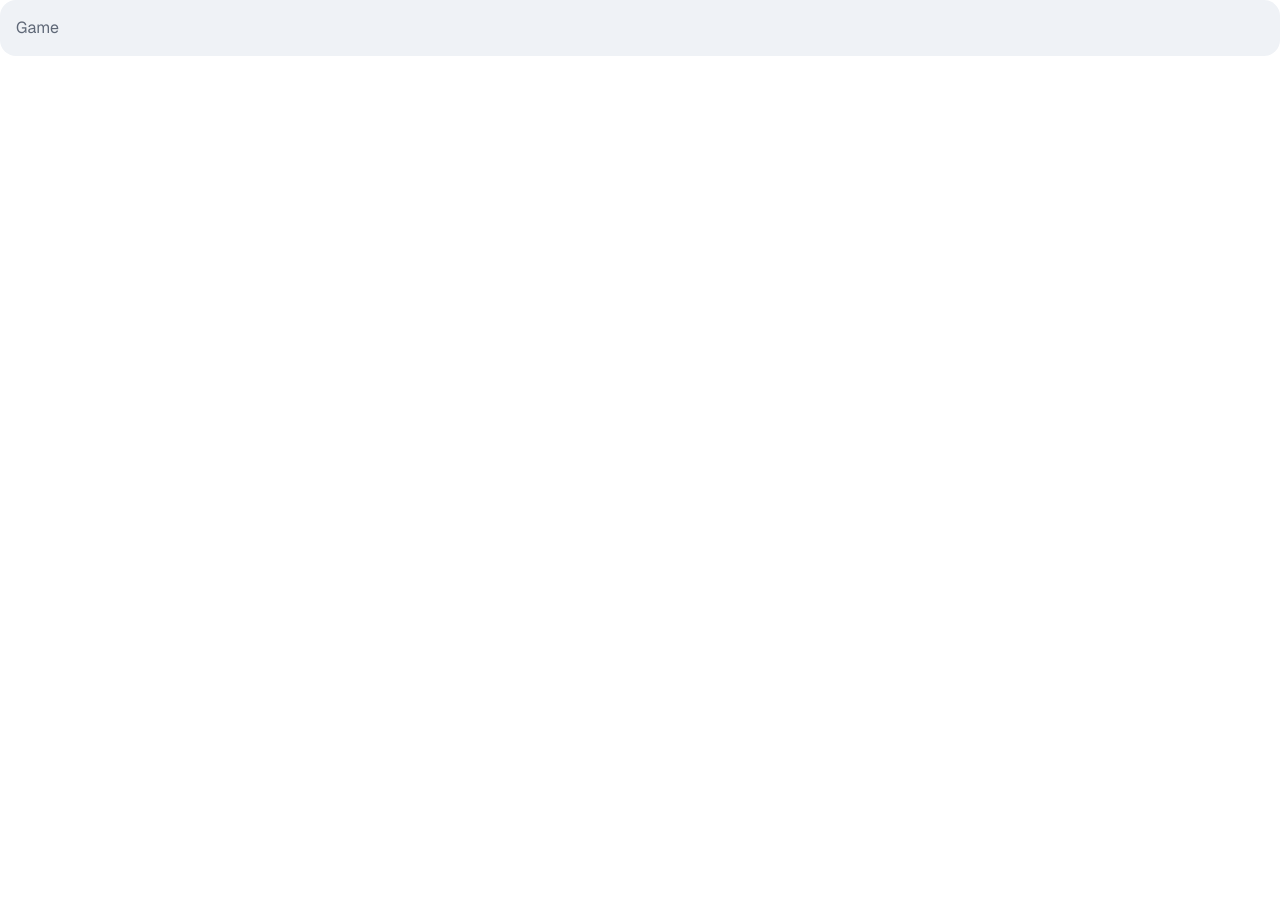
Typeahead (rule M4): a sheet on a phone › on a phone the list opens in a dialog
Click the dropdown: [640, 28] box [16,17,1264,39]
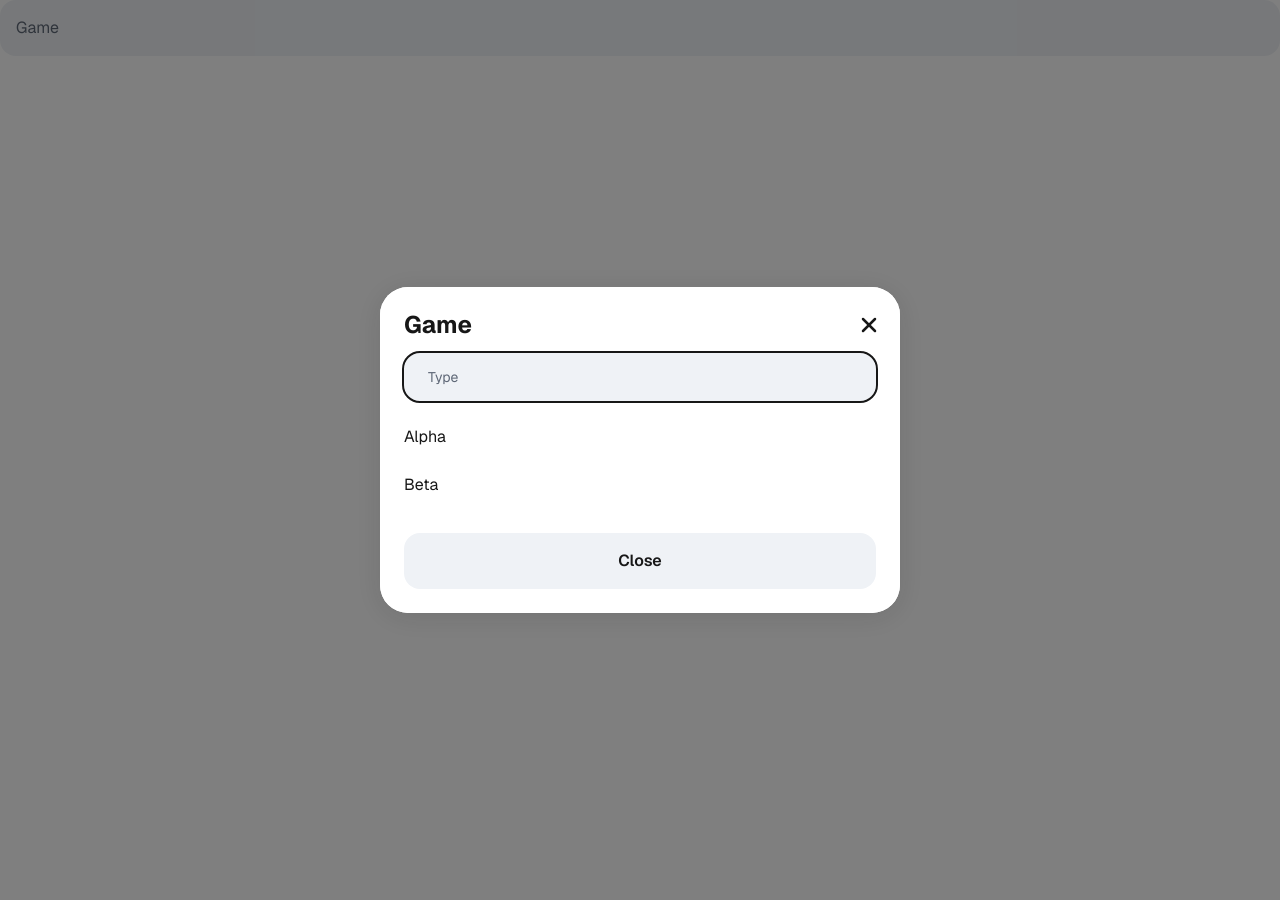
Expected: the list is shown, [404,413,876,509]
